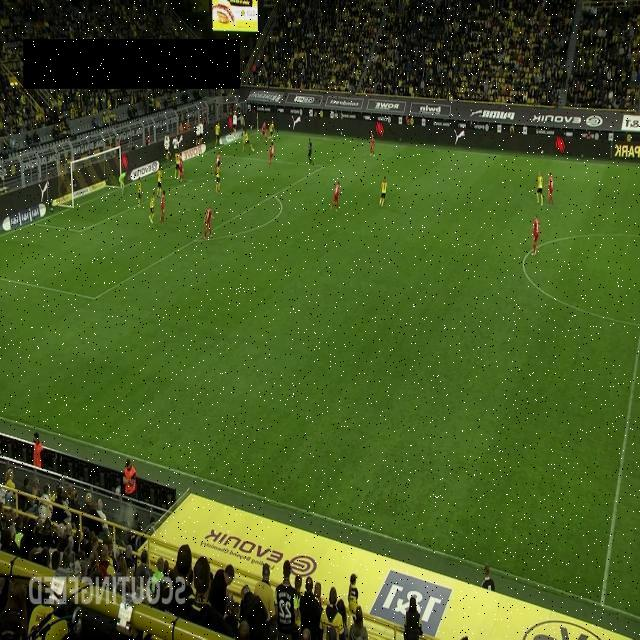Ball: (251, 147, 255, 154)
Corner: (256, 111, 259, 134)
GoalKeeper: (119, 169, 128, 197)
Referee: (308, 138, 312, 164)
TEAM 1: (529, 214, 541, 256), (203, 205, 214, 240), (330, 181, 340, 212), (212, 150, 222, 178), (160, 190, 166, 224), (548, 172, 554, 206), (178, 152, 184, 182), (260, 121, 268, 142), (268, 140, 274, 168), (370, 131, 376, 157)
TEAM 2: (378, 174, 388, 208), (536, 170, 544, 206), (148, 192, 156, 224), (242, 129, 252, 153), (266, 120, 276, 144), (215, 160, 221, 193), (174, 150, 180, 180), (156, 167, 162, 197), (136, 178, 142, 208)
